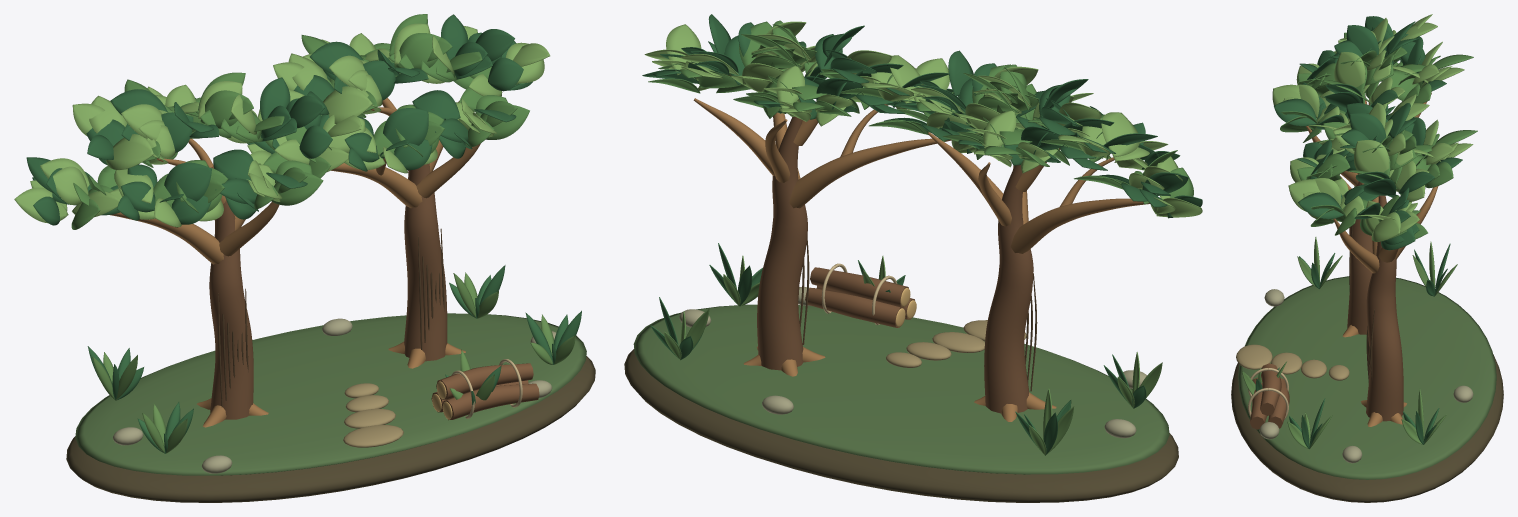
The model's file is woods.glb.
3 renders of one model, left to right at view 1: azimuth 30°, elevation 25°; view 2: azimuth 150°, elevation 25°; view 3: azimuth 270°, elevation 25°, orthographic. The views are drawn at different scales.
Visible parts, largest first — view 1: woods_surface_07, woods_surface_03, woods_surface_05, woods_surface_06, woods_surface_04, woods_surface_00, woods_surface_01, woods_surface_10, woods_surface_09, woods_surface_12, woods_surface_08, woods_surface_02 (+1 smaller); view 2: woods_surface_07, woods_surface_05, woods_surface_06, woods_surface_03, woods_surface_00, woods_surface_01, woods_surface_04, woods_surface_12, woods_surface_10, woods_surface_09, woods_surface_08, woods_surface_11 (+1 smaller); view 3: woods_surface_07, woods_surface_05, woods_surface_03, woods_surface_04, woods_surface_06, woods_surface_00, woods_surface_10, woods_surface_01, woods_surface_08, woods_surface_09, woods_surface_12, woods_surface_11 (+2 smaller).
Boxes of the visible parts, x1,y1,x2,y2 form: woods_surface_07: [75, 313, 586, 475]; woods_surface_03: [26, 14, 532, 225]; woods_surface_05: [14, 23, 550, 227]; woods_surface_06: [66, 356, 595, 502]; woods_surface_04: [71, 14, 529, 229]; woods_surface_00: [209, 163, 447, 419]; woods_surface_01: [110, 98, 480, 427]; woods_surface_10: [92, 272, 575, 453]; woods_surface_09: [87, 265, 581, 453]; woods_surface_12: [431, 363, 539, 420]; woods_surface_08: [343, 383, 403, 447]; woods_surface_02: [218, 228, 444, 407]; woods_surface_07: [633, 304, 1169, 474]; woods_surface_05: [644, 21, 1202, 217]; woods_surface_06: [624, 349, 1178, 502]; woods_surface_03: [642, 14, 1202, 218]; woods_surface_00: [757, 116, 1033, 413]; woods_surface_01: [693, 98, 1150, 421]; woods_surface_04: [648, 20, 1193, 204]; woods_surface_12: [805, 267, 914, 327]; woods_surface_10: [664, 255, 1162, 455]; woods_surface_09: [650, 243, 1146, 455]; woods_surface_08: [886, 320, 1026, 367]; woods_surface_11: [679, 287, 1146, 438]; woods_surface_07: [1238, 276, 1496, 479]; woods_surface_05: [1272, 14, 1473, 241]; woods_surface_03: [1274, 16, 1462, 250]; woods_surface_04: [1280, 32, 1477, 239]; woods_surface_06: [1231, 354, 1503, 502]; woods_surface_00: [1347, 181, 1403, 421]; woods_surface_10: [1242, 237, 1457, 448]; woods_surface_01: [1306, 93, 1438, 426]; woods_surface_08: [1236, 344, 1349, 380]; woods_surface_09: [1252, 243, 1450, 449]; woods_surface_12: [1250, 363, 1289, 429]; woods_surface_11: [1259, 289, 1473, 463].
Bounding box in the file's own units: 5.44 × 3.54 × 2.7.
